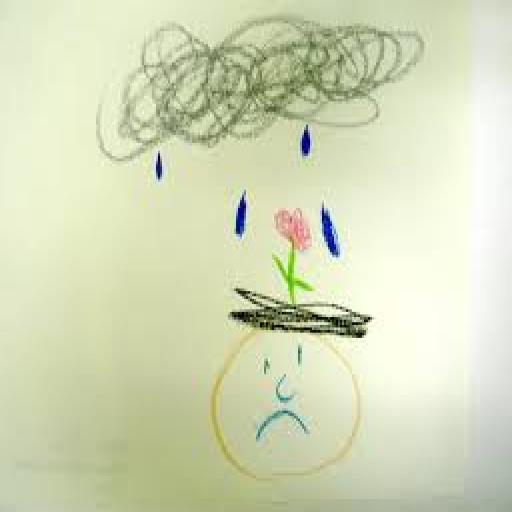person: (194, 297, 372, 490)
